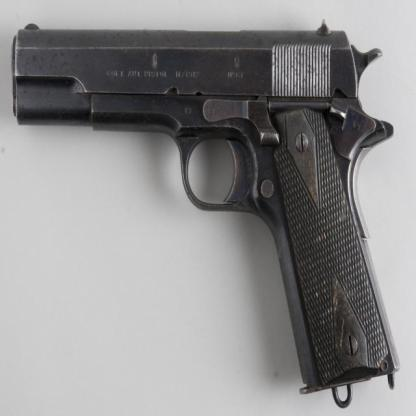weapon: (9, 18, 400, 408)
